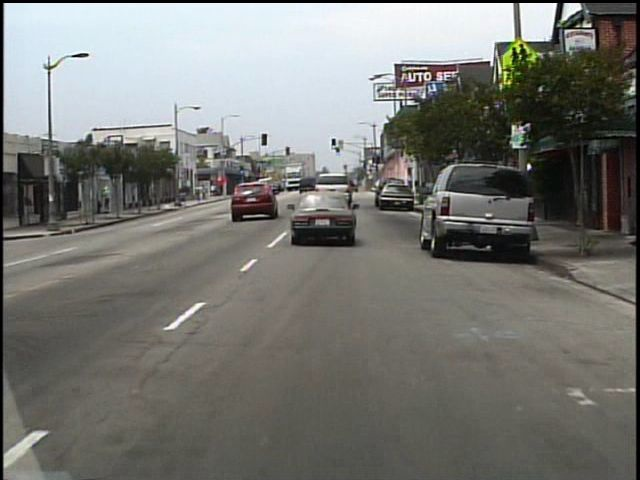person: (104, 185, 117, 214)
